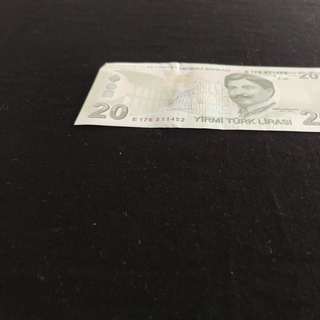20TLBack: (73, 61, 320, 133)
